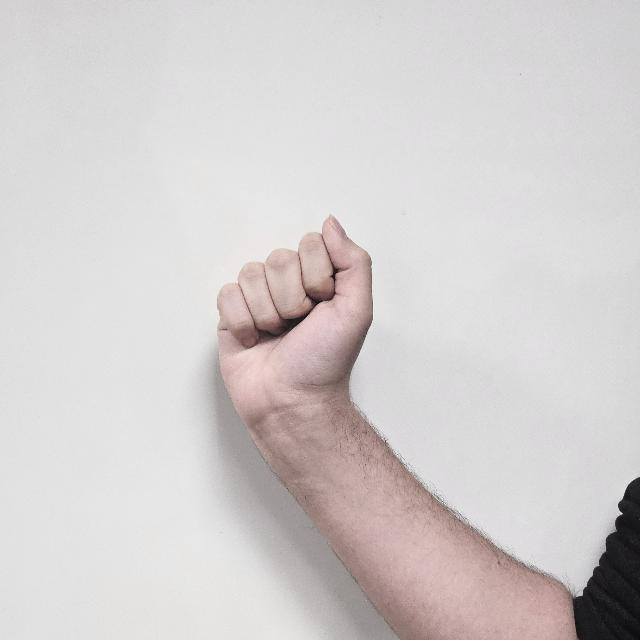Quadro: (214, 214, 376, 420)
